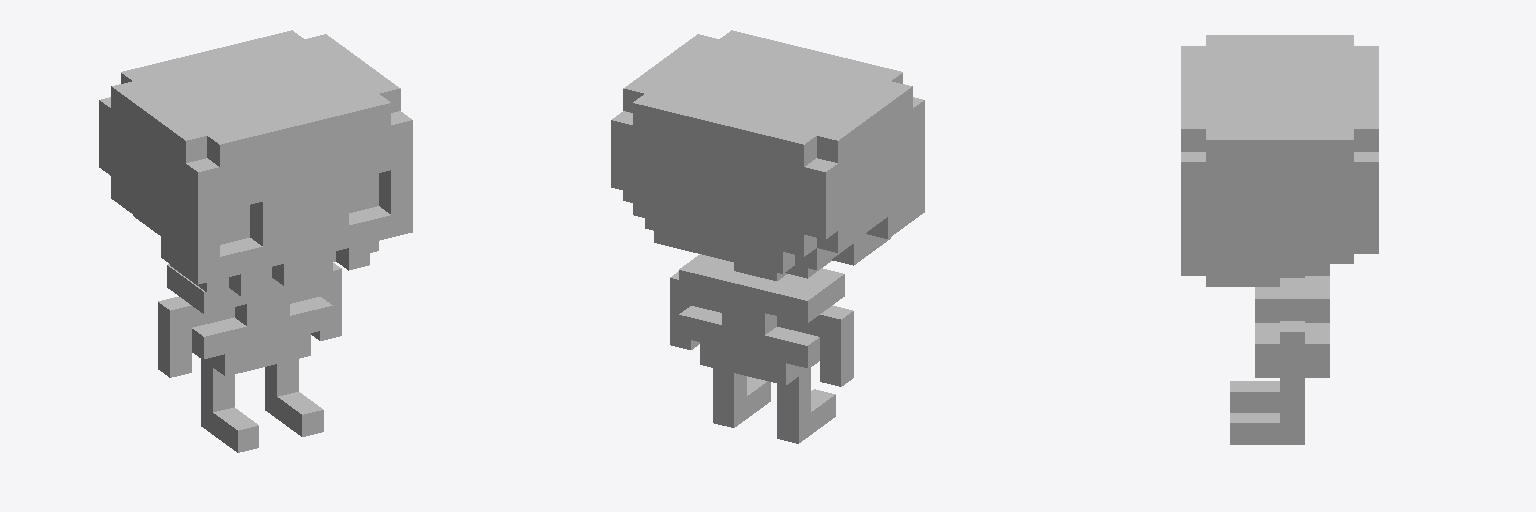
File: skeleton.obj
3 views of the same model, side by side, from view 1: azimuth 30°, elevation 25°; view 2: azimuth 150°, elevation 25°; view 3: azimuth 270°, elevation 25° (orthographic).
Size of the model in its own units: 10 by 15 by 8.